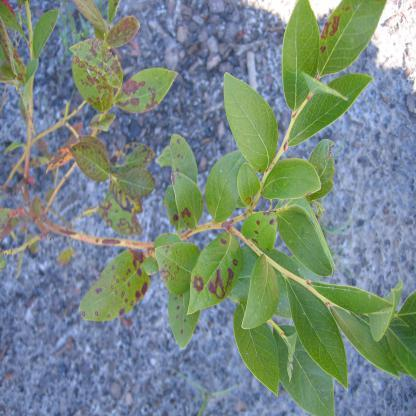Blueberry leaf: (278, 268, 360, 397), (296, 68, 390, 155), (185, 232, 249, 346), (76, 242, 160, 328), (195, 122, 251, 225), (315, 2, 393, 70), (222, 70, 275, 168), (236, 298, 284, 404), (272, 207, 340, 280), (279, 1, 323, 110), (311, 260, 397, 314), (104, 64, 184, 119), (242, 247, 282, 334), (261, 149, 321, 205), (169, 170, 205, 245), (112, 157, 163, 209), (74, 146, 112, 190)
